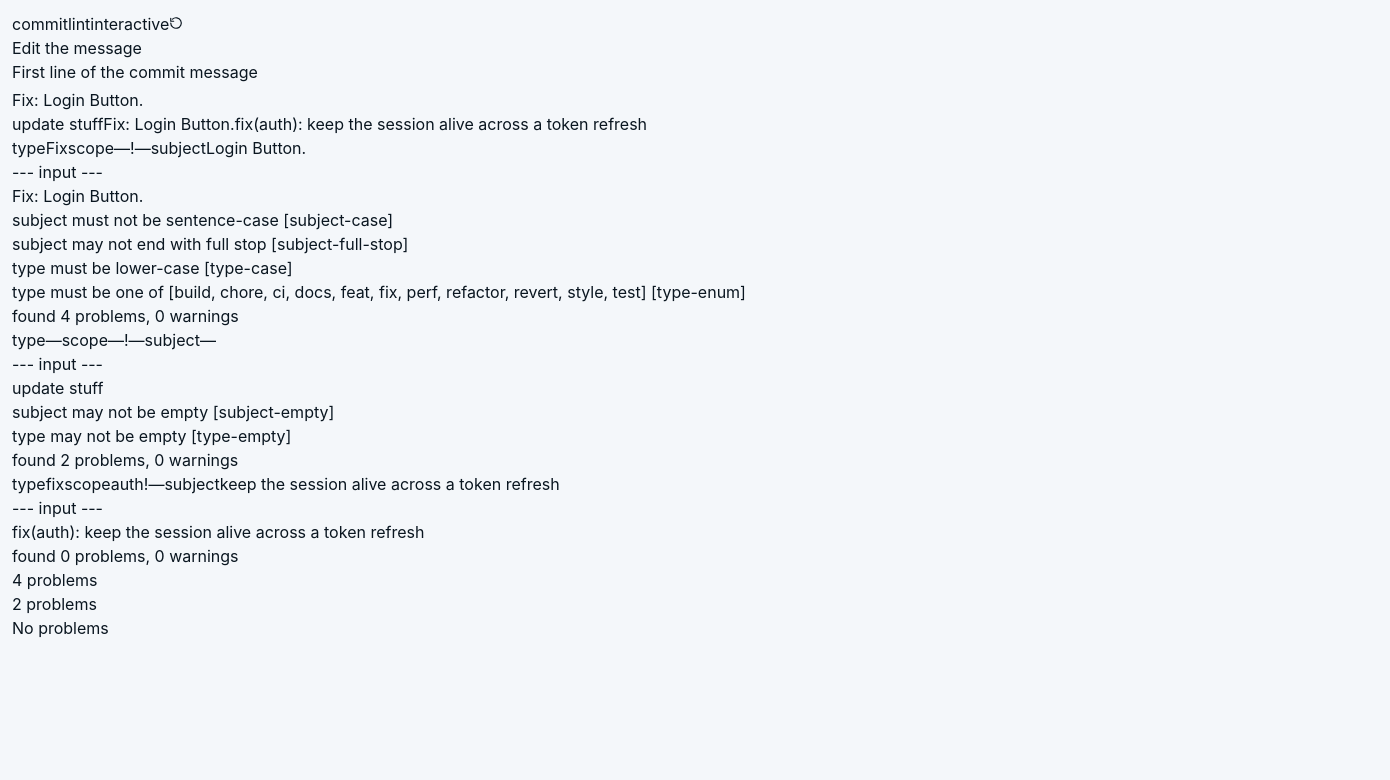
CommitLint › a preset button loads the field and shows as pressed
Click the button "update stuff".
click(58, 124)  # box [12,112,103,136]
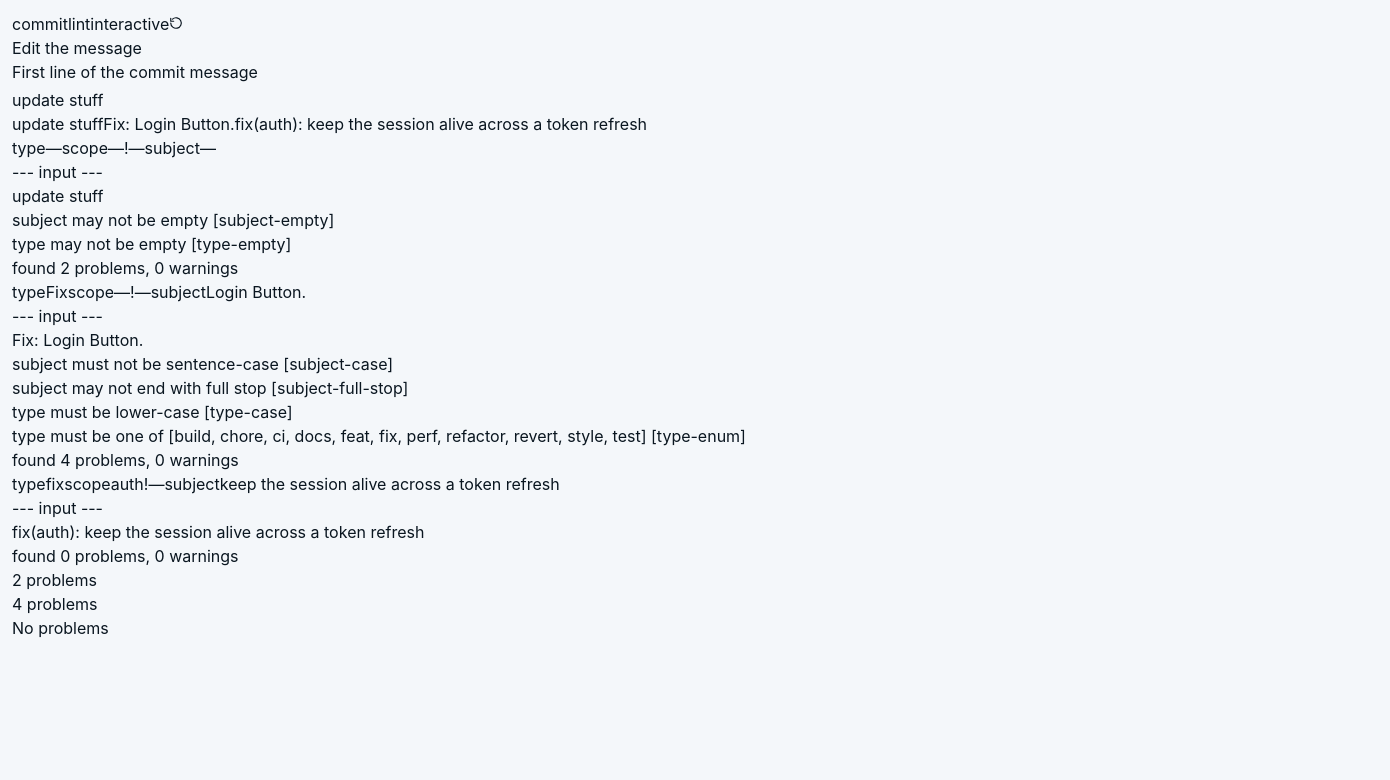
Check: the field labelled "First line of the commit message" holds "update stuff", box [12,88,1378,112]
